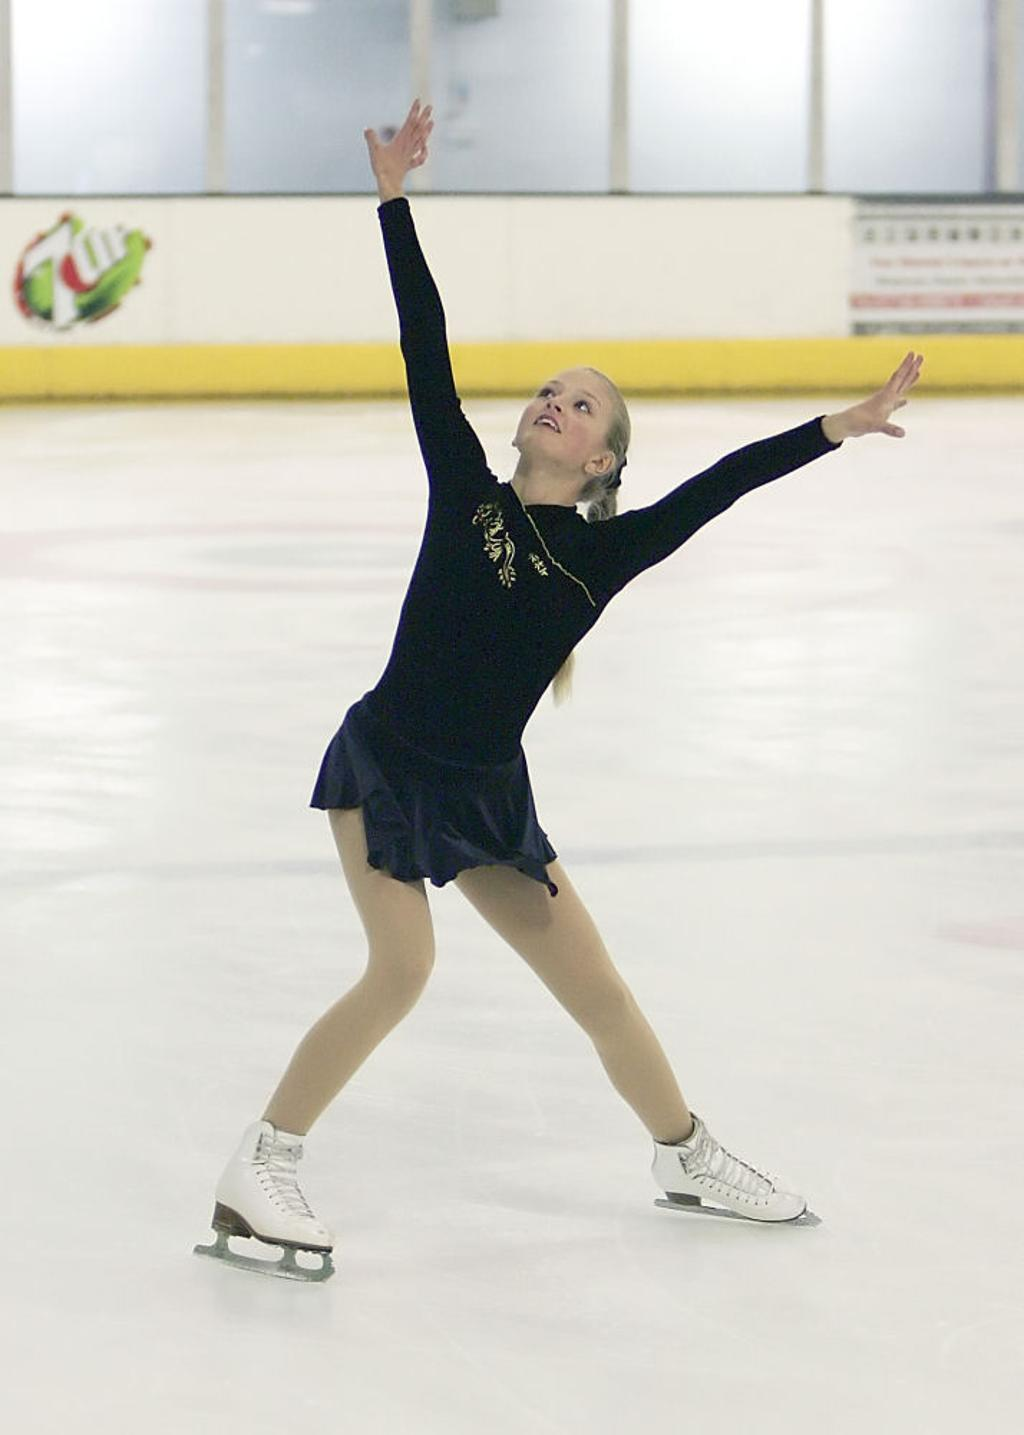face: (518, 369, 608, 473)
